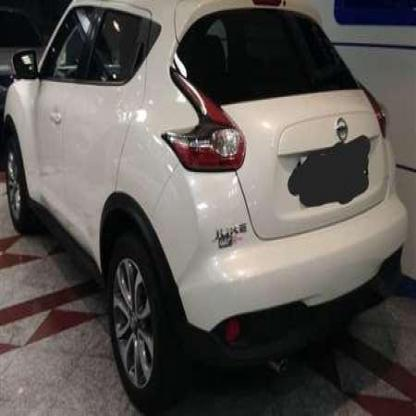Car: (0, 0, 409, 398)
